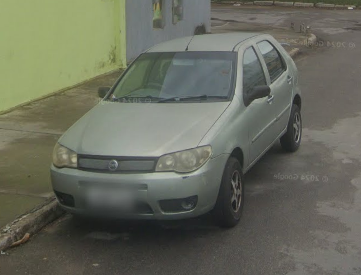car: (49, 30, 304, 228)
